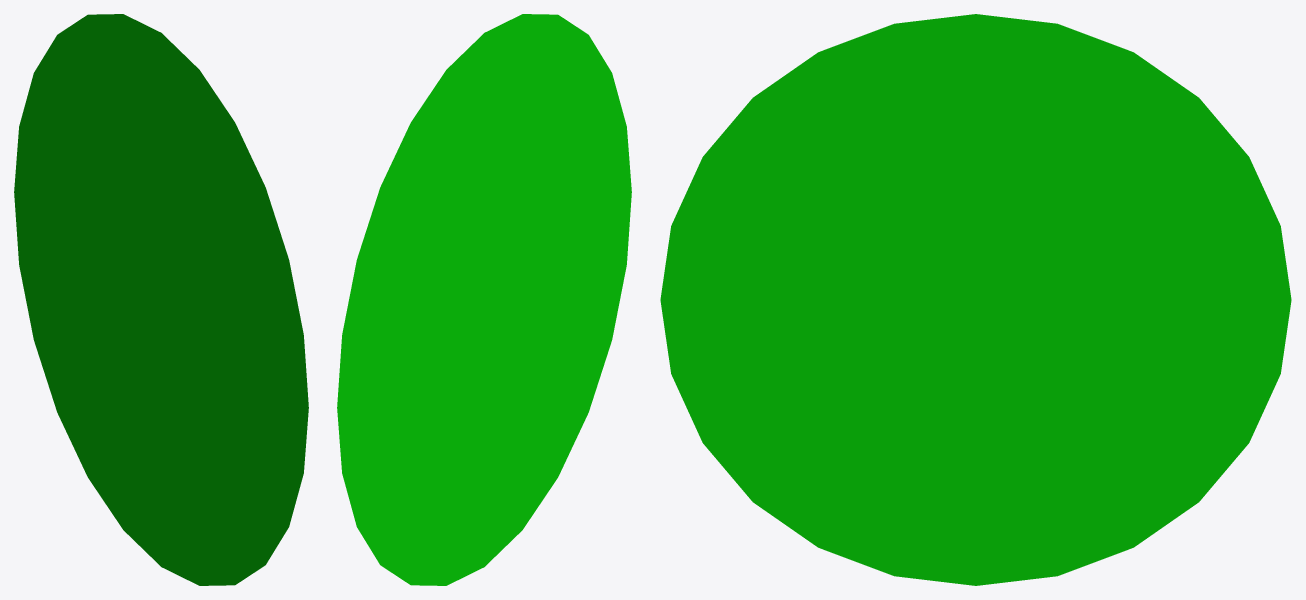
File: traffic_light_3_green_light.dae
The picture shows the model from 3 angles, left to right: view 1: azimuth 30°, elevation 25°; view 2: azimuth 150°, elevation 25°; view 3: azimuth 270°, elevation 25°; orthographic projection. The views are drawn at different scales.
Parts seen in each view (by area): view 1: coords_ME_ID3_MA_material; view 2: coords_ME_ID3_MA_material; view 3: coords_ME_ID3_MA_material.
Boxes of the visible parts, x1,y1,x2,y2 form: coords_ME_ID3_MA_material: [14, 14, 308, 585]; coords_ME_ID3_MA_material: [337, 14, 631, 585]; coords_ME_ID3_MA_material: [660, 14, 1291, 585].
Bounding box in the file's own units: 0 × 4.28 × 4.28.
